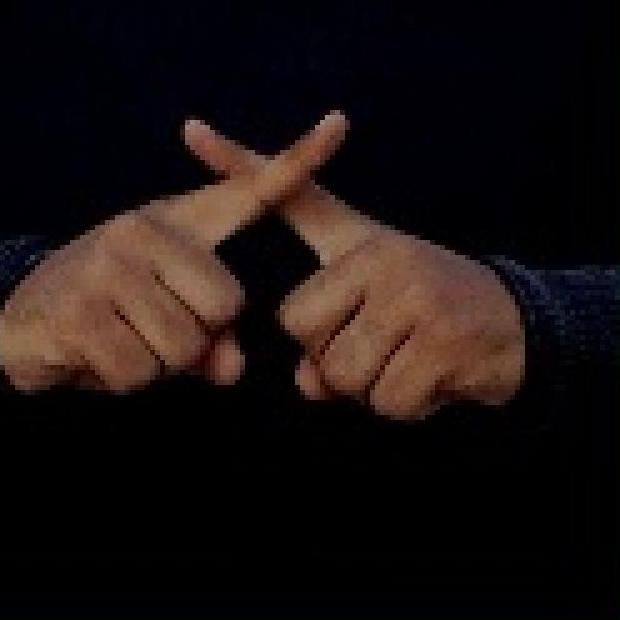W: (22, 102, 532, 444)
